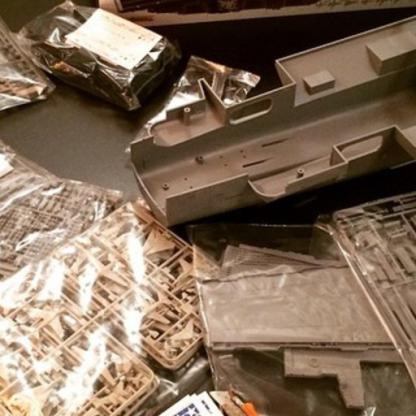knife: (209, 385, 336, 415)
